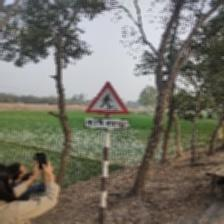Pedestrian-crossing: (83, 81, 131, 131)
